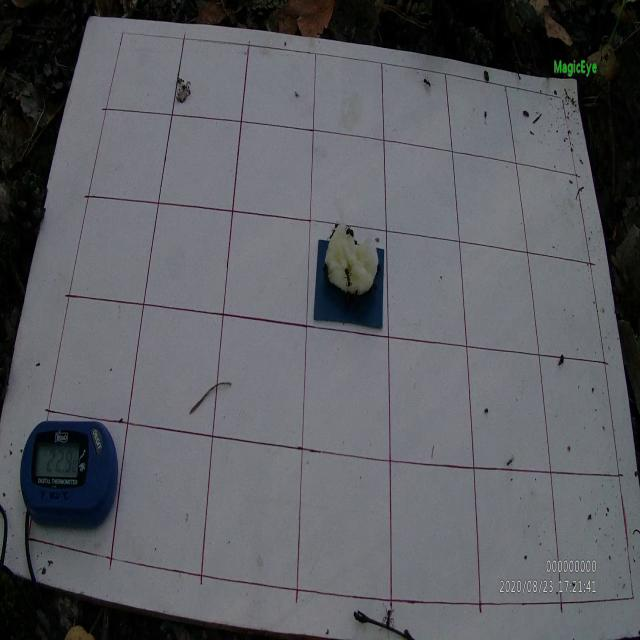Ant: (379, 602, 395, 638), (341, 264, 354, 288), (419, 74, 434, 92)
